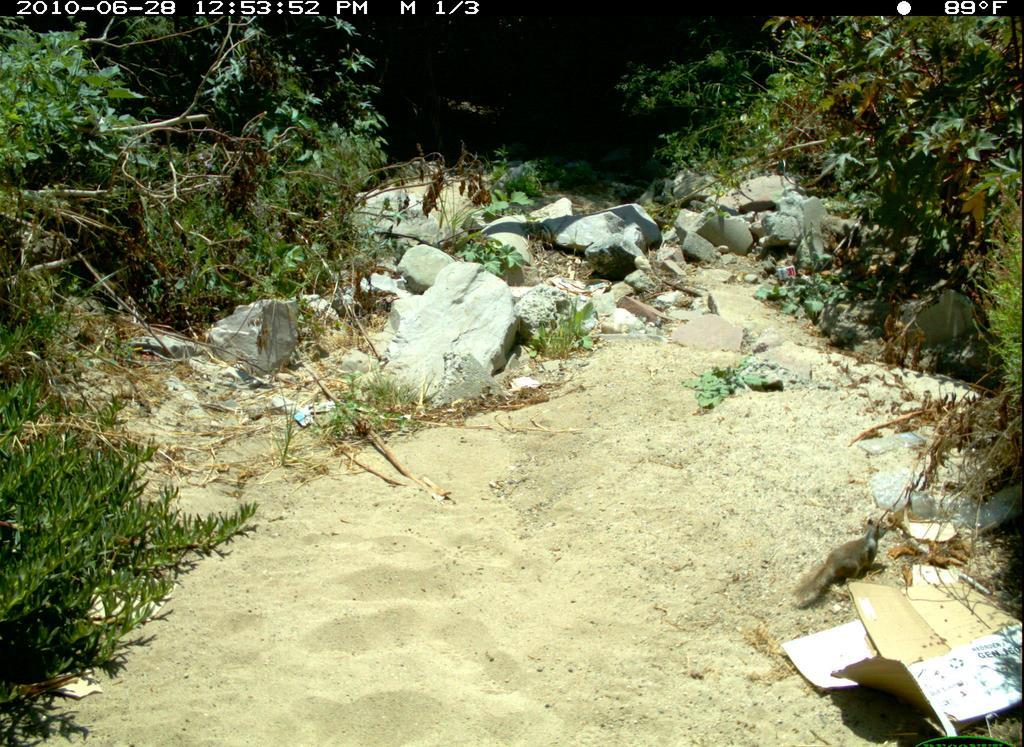squirrel: (776, 513, 897, 612)
